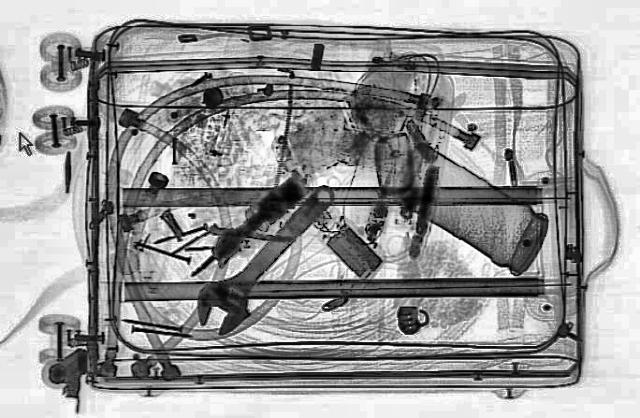Wrench: (174, 176, 356, 336)
